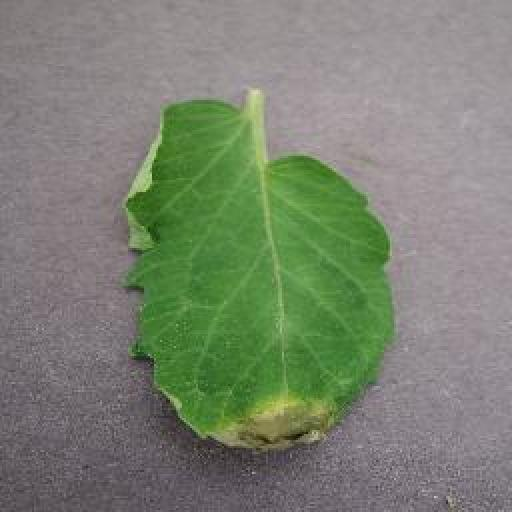disease_tomato: (124, 95, 397, 461)
